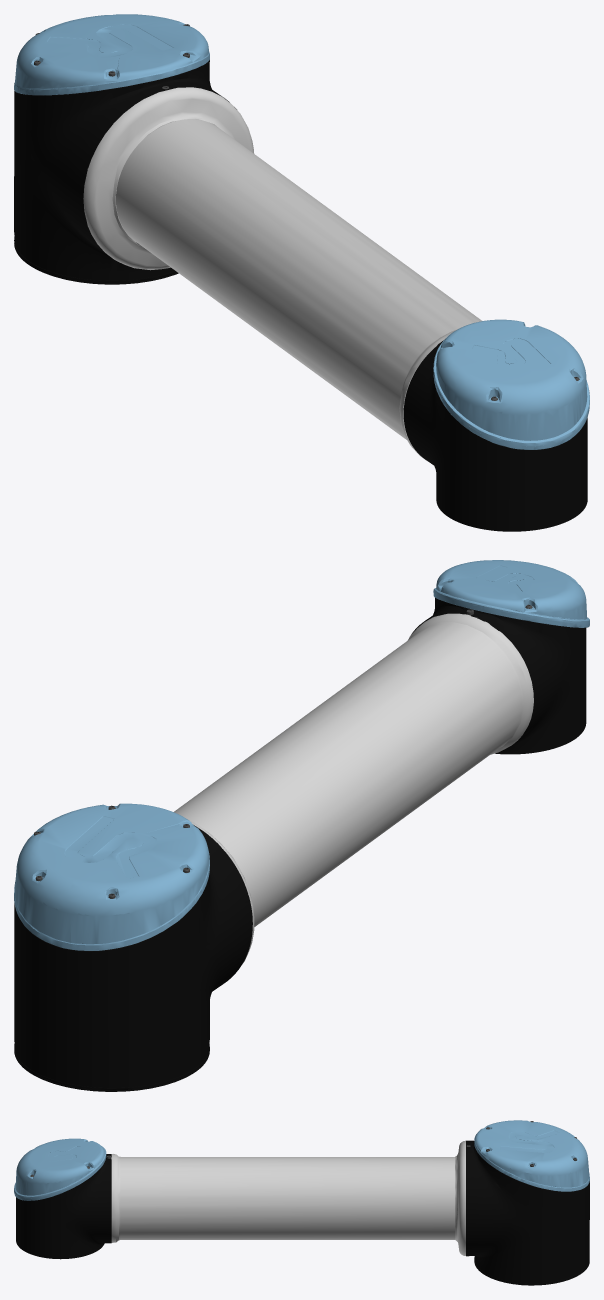
Rendered from upperarm.obj.
3 renders of one model, top to bottom at view 1: azimuth 30°, elevation 25°; view 2: azimuth 150°, elevation 25°; view 3: azimuth 270°, elevation 25°, orthographic. The views are drawn at different scales.
Parts seen in each view (by area): view 1: shape3_001-mesh, shape0_001-mesh, shape1_001-mesh; view 2: shape3_001-mesh, shape0_001-mesh, shape1_001-mesh; view 3: shape3_001-mesh, shape0_001-mesh, shape1_001-mesh.
Boxes of the visible parts, x1,y1,x2,y2 form: shape3_001-mesh: (83, 87, 481, 460); shape0_001-mesh: (14, 60, 587, 531); shape1_001-mesh: (14, 14, 589, 449); shape3_001-mesh: (174, 613, 533, 962); shape0_001-mesh: (14, 598, 586, 1091); shape1_001-mesh: (14, 560, 589, 950); shape3_001-mesh: (111, 1140, 465, 1255); shape0_001-mesh: (16, 1140, 589, 1285); shape1_001-mesh: (14, 1120, 589, 1200).
Bounding box in the file's own units: 0.1503 × 0.1772 × 0.7479.
